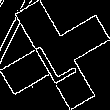L_NW: (29, 26, 81, 84)
